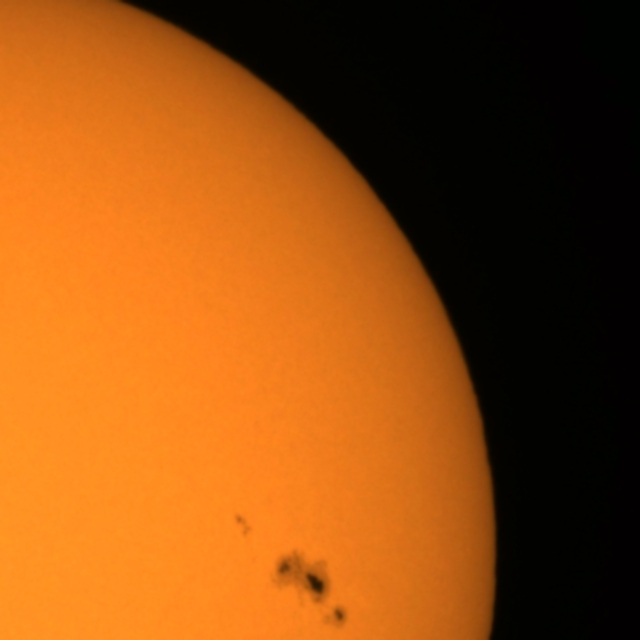sunspot: (271, 548, 331, 600), (322, 596, 363, 629), (231, 511, 256, 540)
